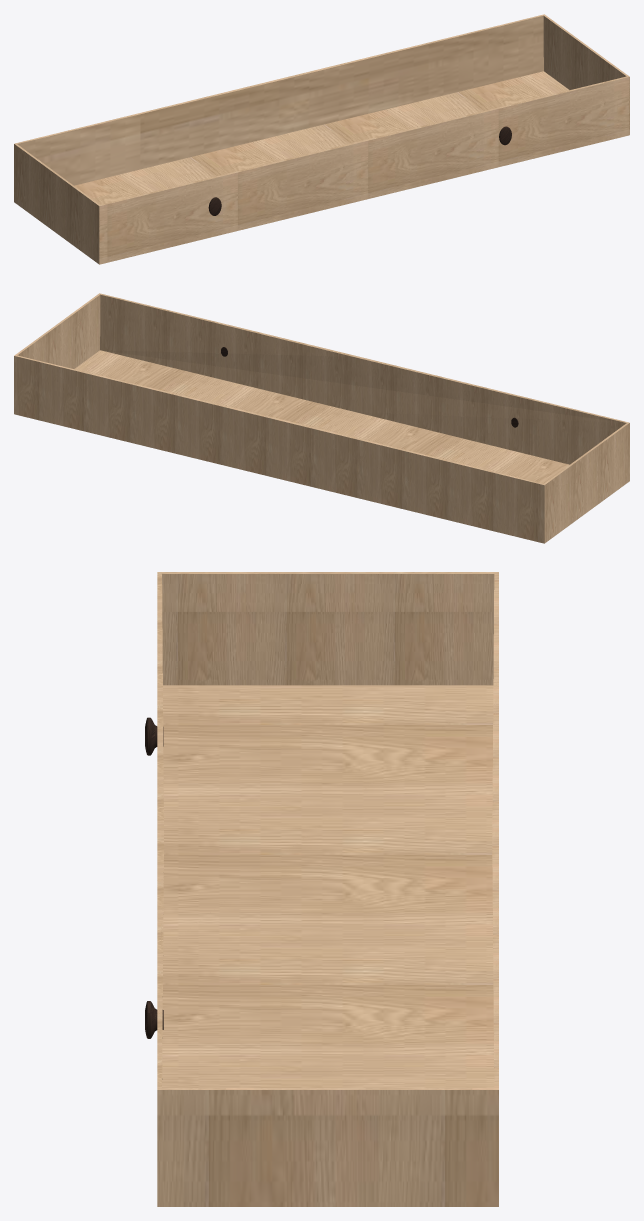
The model's file is тумба на которой грамофон(ящик).FBX.
3 views of the same model, one above another, from view 1: azimuth 30°, elevation 25°; view 2: azimuth 150°, elevation 25°; view 3: azimuth 270°, elevation 25° (orthographic). The views are drawn at different scales.
Parts seen in each view (by area): view 1: Object184; view 2: Object184; view 3: Object184.
Part boxes in pixels (x1,y1,x2,y2): Object184: (14, 14, 629, 264); Object184: (14, 293, 629, 543); Object184: (145, 572, 498, 1206).
Bounding box in the file's own units: 925 × 97.41 × 267.
